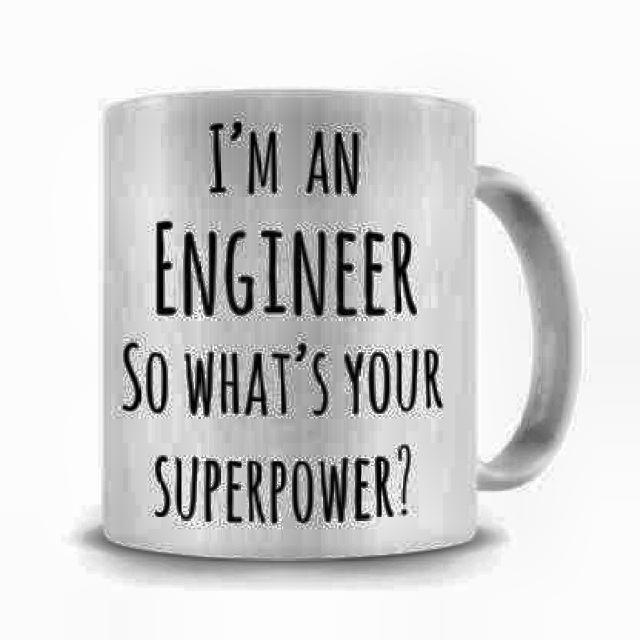Mug: (103, 89, 580, 562)
